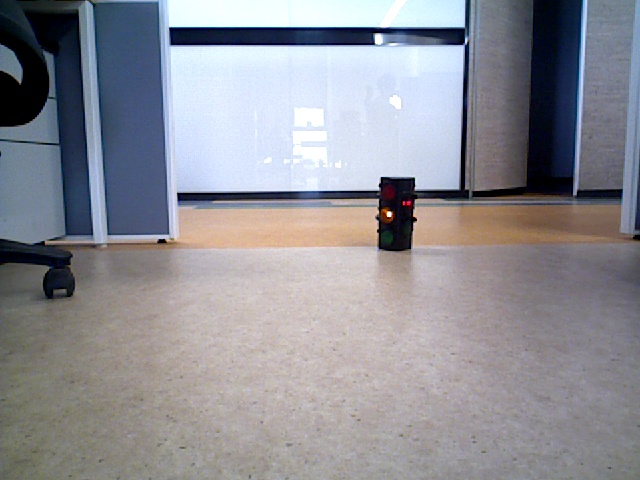yellow: (380, 178, 410, 249)
